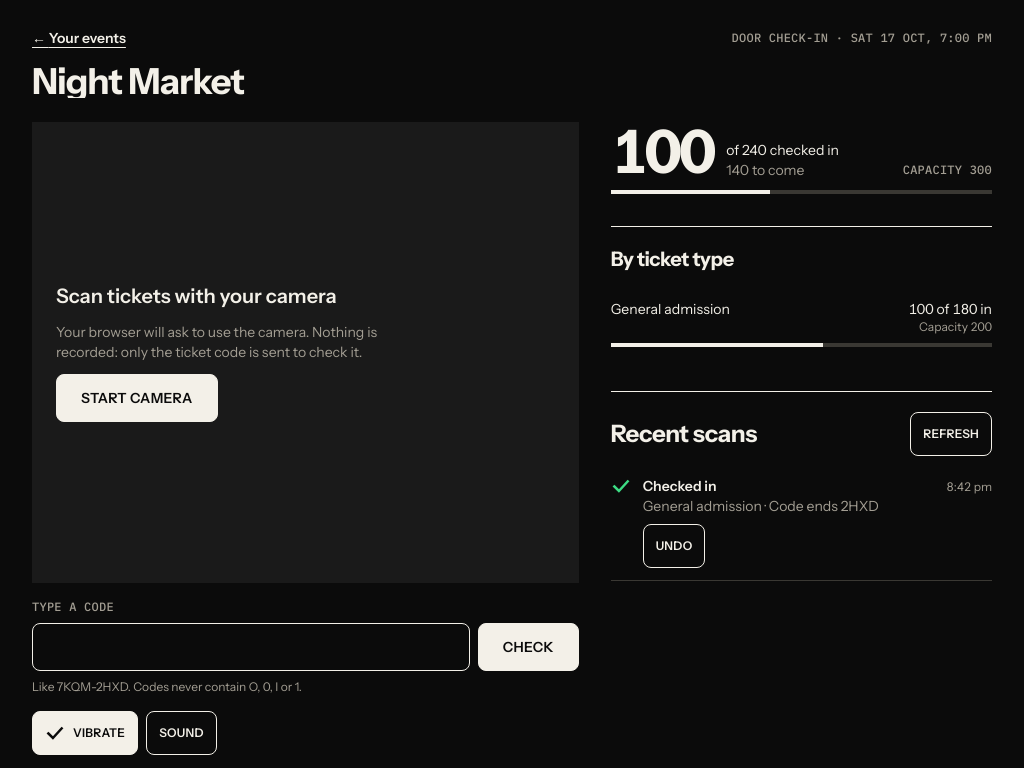
Test: outcomes › admitted: LET IN with the ticket, no actions, the assertive announcement and a local +1
Type "7KQM-2HXD" into the field labelled "Type a code".
click(251, 647); type("7KQM-2HXD")  # box [32,623,470,671]
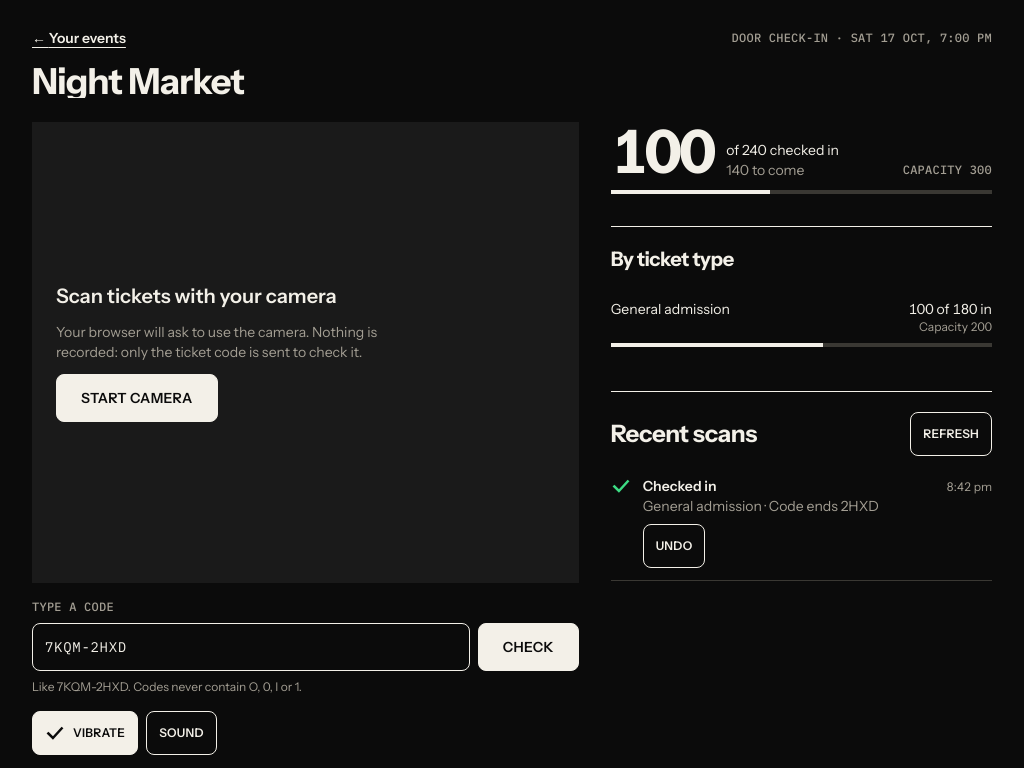
Click the button "Check".
click(528, 647)  # box [478,623,579,671]
Wait 40 ms
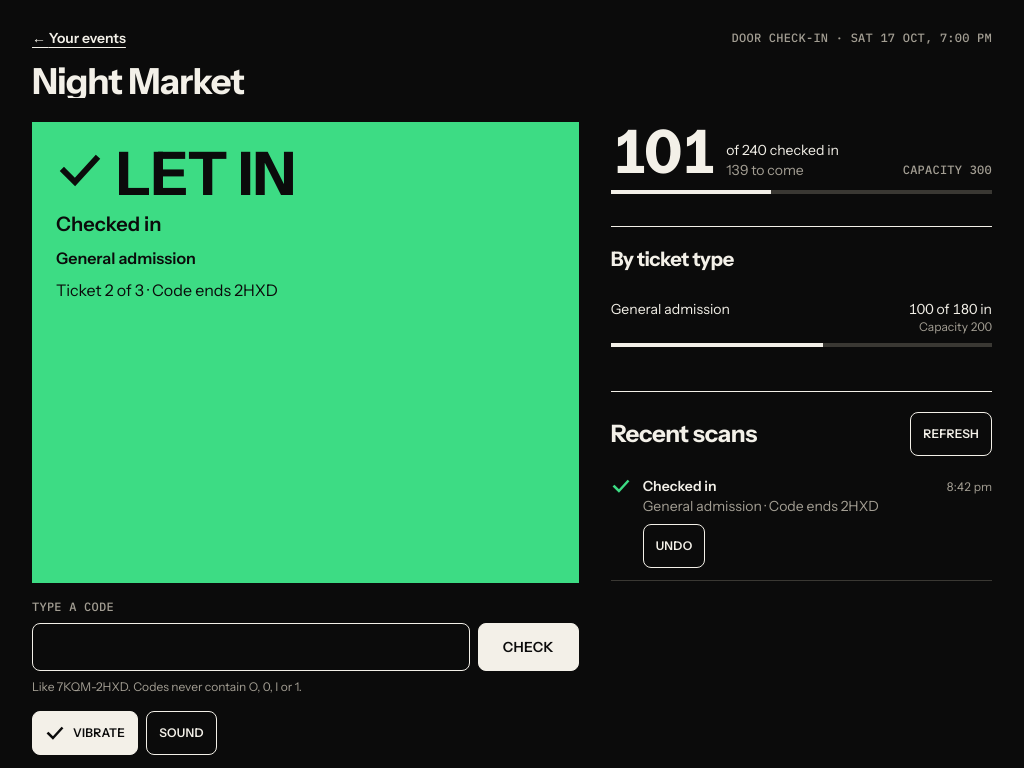
Expected: the text "Let in" is shown, [116,146,295,202]
Expected: the text "Checked in" below "Let in" is shown, [56,212,162,236]
Expected: the text "General admission" below "Let in" is shown, [56,248,196,268]
